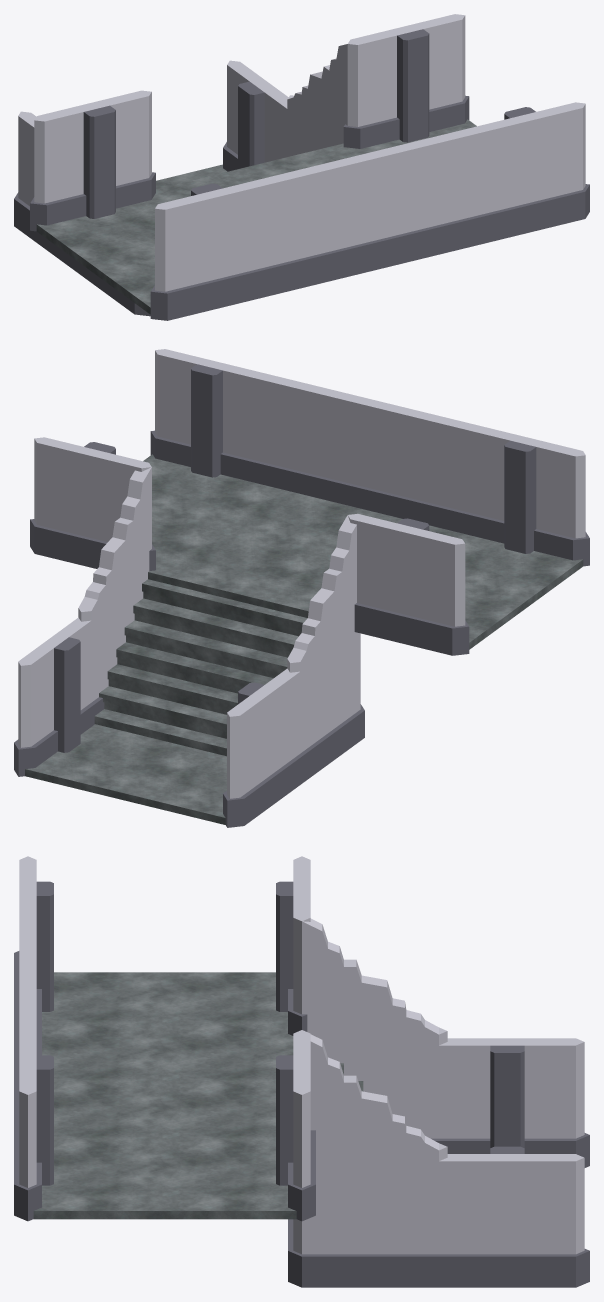
The model's file is intersection_3way_stair_03.fbx.
3 views of the same model, one above another, from view 1: azimuth 30°, elevation 25°; view 2: azimuth 150°, elevation 25°; view 3: azimuth 270°, elevation 25° (orthographic). The views are drawn at different scales.
Parts seen in each view (by area): view 1: wall_02_55, wall_02_52, wall_02_51, wall_02_54, wall_01_56, wall_01_57, floor_04_49, stairs_01_45, wall_02_53, floor_01_47, wall_02_50, floor_04_48 (+1 smaller); view 2: stairs_01_45, floor_01_47, wall_02_52, wall_02_55, wall_02_54, wall_01_56, wall_01_57, floor_04_44, wall_02_51, wall_02_50, wall_02_53, floor_04_49 (+1 smaller); view 3: stairs_01_45, floor_01_47, wall_02_53, wall_02_50, floor_04_48, floor_04_49, wall_02_54, wall_02_51, wall_02_52, wall_02_55, wall_01_57, wall_01_56.
Part boxes in pixels (x1,y1,x2,y2): wall_02_55: (150, 179, 273, 320); wall_02_52: (30, 90, 155, 231); wall_02_51: (343, 14, 469, 148); wall_02_54: (468, 102, 589, 244); wall_01_56: (364, 128, 482, 269); wall_01_57: (261, 153, 377, 295); floor_04_49: (36, 197, 162, 314); stairs_01_45: (74, 41, 360, 316); wall_02_53: (223, 60, 288, 171); floor_01_47: (145, 143, 372, 208); wall_02_50: (14, 111, 74, 269); floor_04_48: (351, 119, 476, 154); stairs_01_45: (78, 463, 364, 781); floor_01_47: (148, 483, 470, 617); wall_02_52: (348, 514, 469, 655); wall_02_55: (467, 425, 589, 566); wall_02_54: (150, 349, 271, 483); wall_01_56: (258, 374, 376, 509); wall_01_57: (364, 400, 477, 534); floor_04_44: (25, 726, 226, 824); wall_02_51: (30, 437, 155, 570); wall_02_50: (223, 668, 304, 827); wall_02_53: (14, 617, 95, 776); floor_04_49: (458, 534, 583, 649); stairs_01_45: (288, 914, 447, 1287); floor_01_47: (42, 1030, 293, 1153); wall_02_53: (434, 1146, 589, 1287); wall_02_50: (438, 1038, 589, 1167); floor_04_48: (33, 1146, 296, 1219); floor_04_49: (42, 972, 287, 1037); wall_02_54: (14, 1030, 53, 1221); wall_02_51: (276, 1030, 315, 1221); wall_02_52: (276, 856, 310, 1035); wall_02_55: (14, 856, 53, 1012); wall_01_57: (14, 917, 41, 1070); wall_01_56: (14, 972, 36, 1128).
Bounding box in the file's own units: 42.05 × 20 × 42.05.
